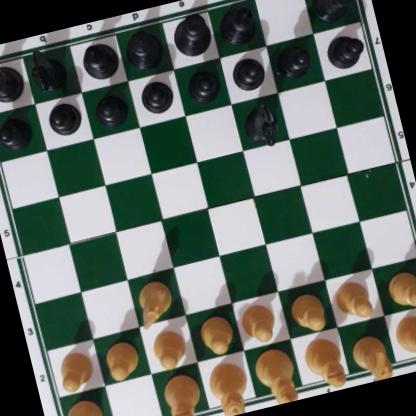black-bishop: (213, 0, 262, 48), (76, 36, 123, 82)
black-king: (168, 12, 217, 61)
black-knight: (239, 99, 282, 151), (26, 43, 68, 93)
black-pawn: (323, 29, 366, 72), (228, 51, 268, 94), (44, 97, 83, 139), (136, 74, 175, 116), (274, 40, 313, 81), (183, 64, 221, 105), (91, 88, 129, 128), (0, 112, 34, 151)
black-queen: (120, 24, 167, 72)
black-rook: (0, 57, 27, 108), (306, 0, 359, 24)
white-bishop: (300, 334, 349, 394), (160, 369, 205, 416)
white-king: (251, 346, 300, 407)
white-knight: (348, 329, 394, 383), (131, 275, 175, 327)
white-pawn: (330, 276, 376, 323), (52, 346, 97, 394), (236, 299, 280, 346), (100, 336, 142, 381), (287, 289, 329, 334), (148, 327, 189, 372), (195, 312, 235, 356), (385, 266, 416, 310)
white-queen: (203, 357, 254, 416)
white-rook: (392, 305, 416, 374), (53, 395, 110, 416)
